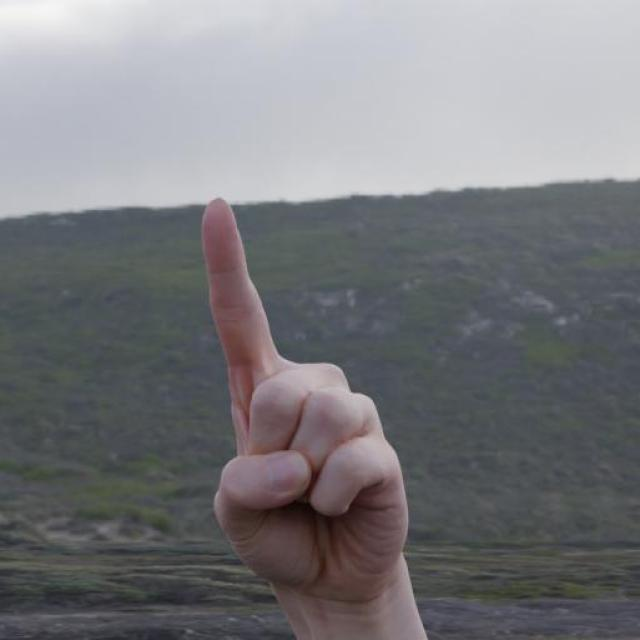Z: (196, 195, 415, 616)
